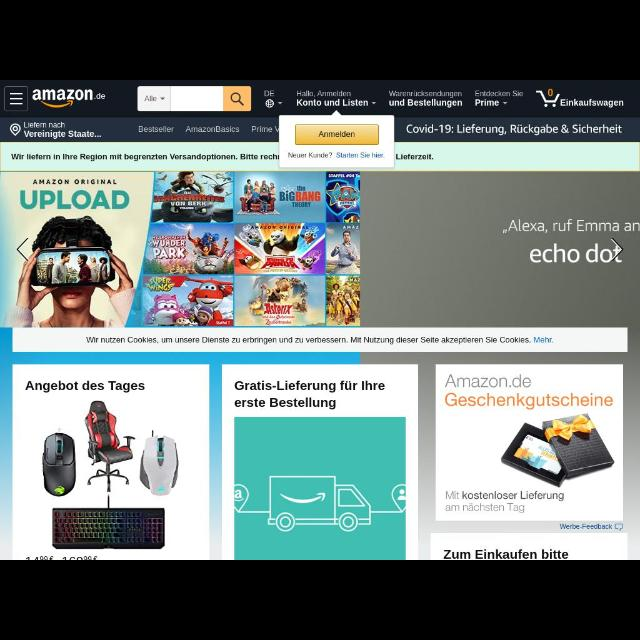backgroundimage: (1, 172, 640, 558)
button: (5, 86, 28, 112), (226, 88, 252, 110)
icon: (534, 88, 560, 109), (611, 238, 623, 262), (17, 237, 29, 261), (230, 92, 243, 106), (10, 92, 22, 106), (9, 124, 21, 136), (266, 99, 274, 107), (615, 524, 623, 530), (372, 100, 378, 106), (502, 100, 508, 106), (278, 100, 282, 106)
image: (235, 417, 405, 559), (42, 400, 180, 550), (501, 412, 615, 488), (32, 88, 106, 109)
input: (170, 87, 223, 111)
multitab: (123, 118, 279, 142)
spinner: (297, 90, 377, 108), (138, 86, 172, 112), (474, 98, 510, 106), (160, 96, 166, 100)
text: (444, 375, 614, 411), (234, 380, 386, 410), (86, 336, 554, 344), (446, 490, 564, 514), (406, 124, 622, 136), (502, 219, 640, 235), (20, 190, 130, 210), (11, 153, 277, 161), (530, 243, 624, 263), (388, 88, 464, 108), (25, 381, 145, 393), (442, 549, 570, 559), (298, 91, 368, 107), (24, 130, 102, 140), (32, 178, 118, 186), (560, 98, 624, 108), (288, 152, 386, 158), (475, 90, 525, 98), (185, 126, 239, 132), (560, 524, 612, 530), (24, 122, 66, 128), (474, 98, 498, 108), (396, 154, 434, 160), (138, 126, 174, 132), (252, 126, 278, 132), (145, 94, 157, 104), (264, 89, 274, 97)
textbutton: (296, 125, 378, 145)
toolbar: (0, 80, 638, 118)
